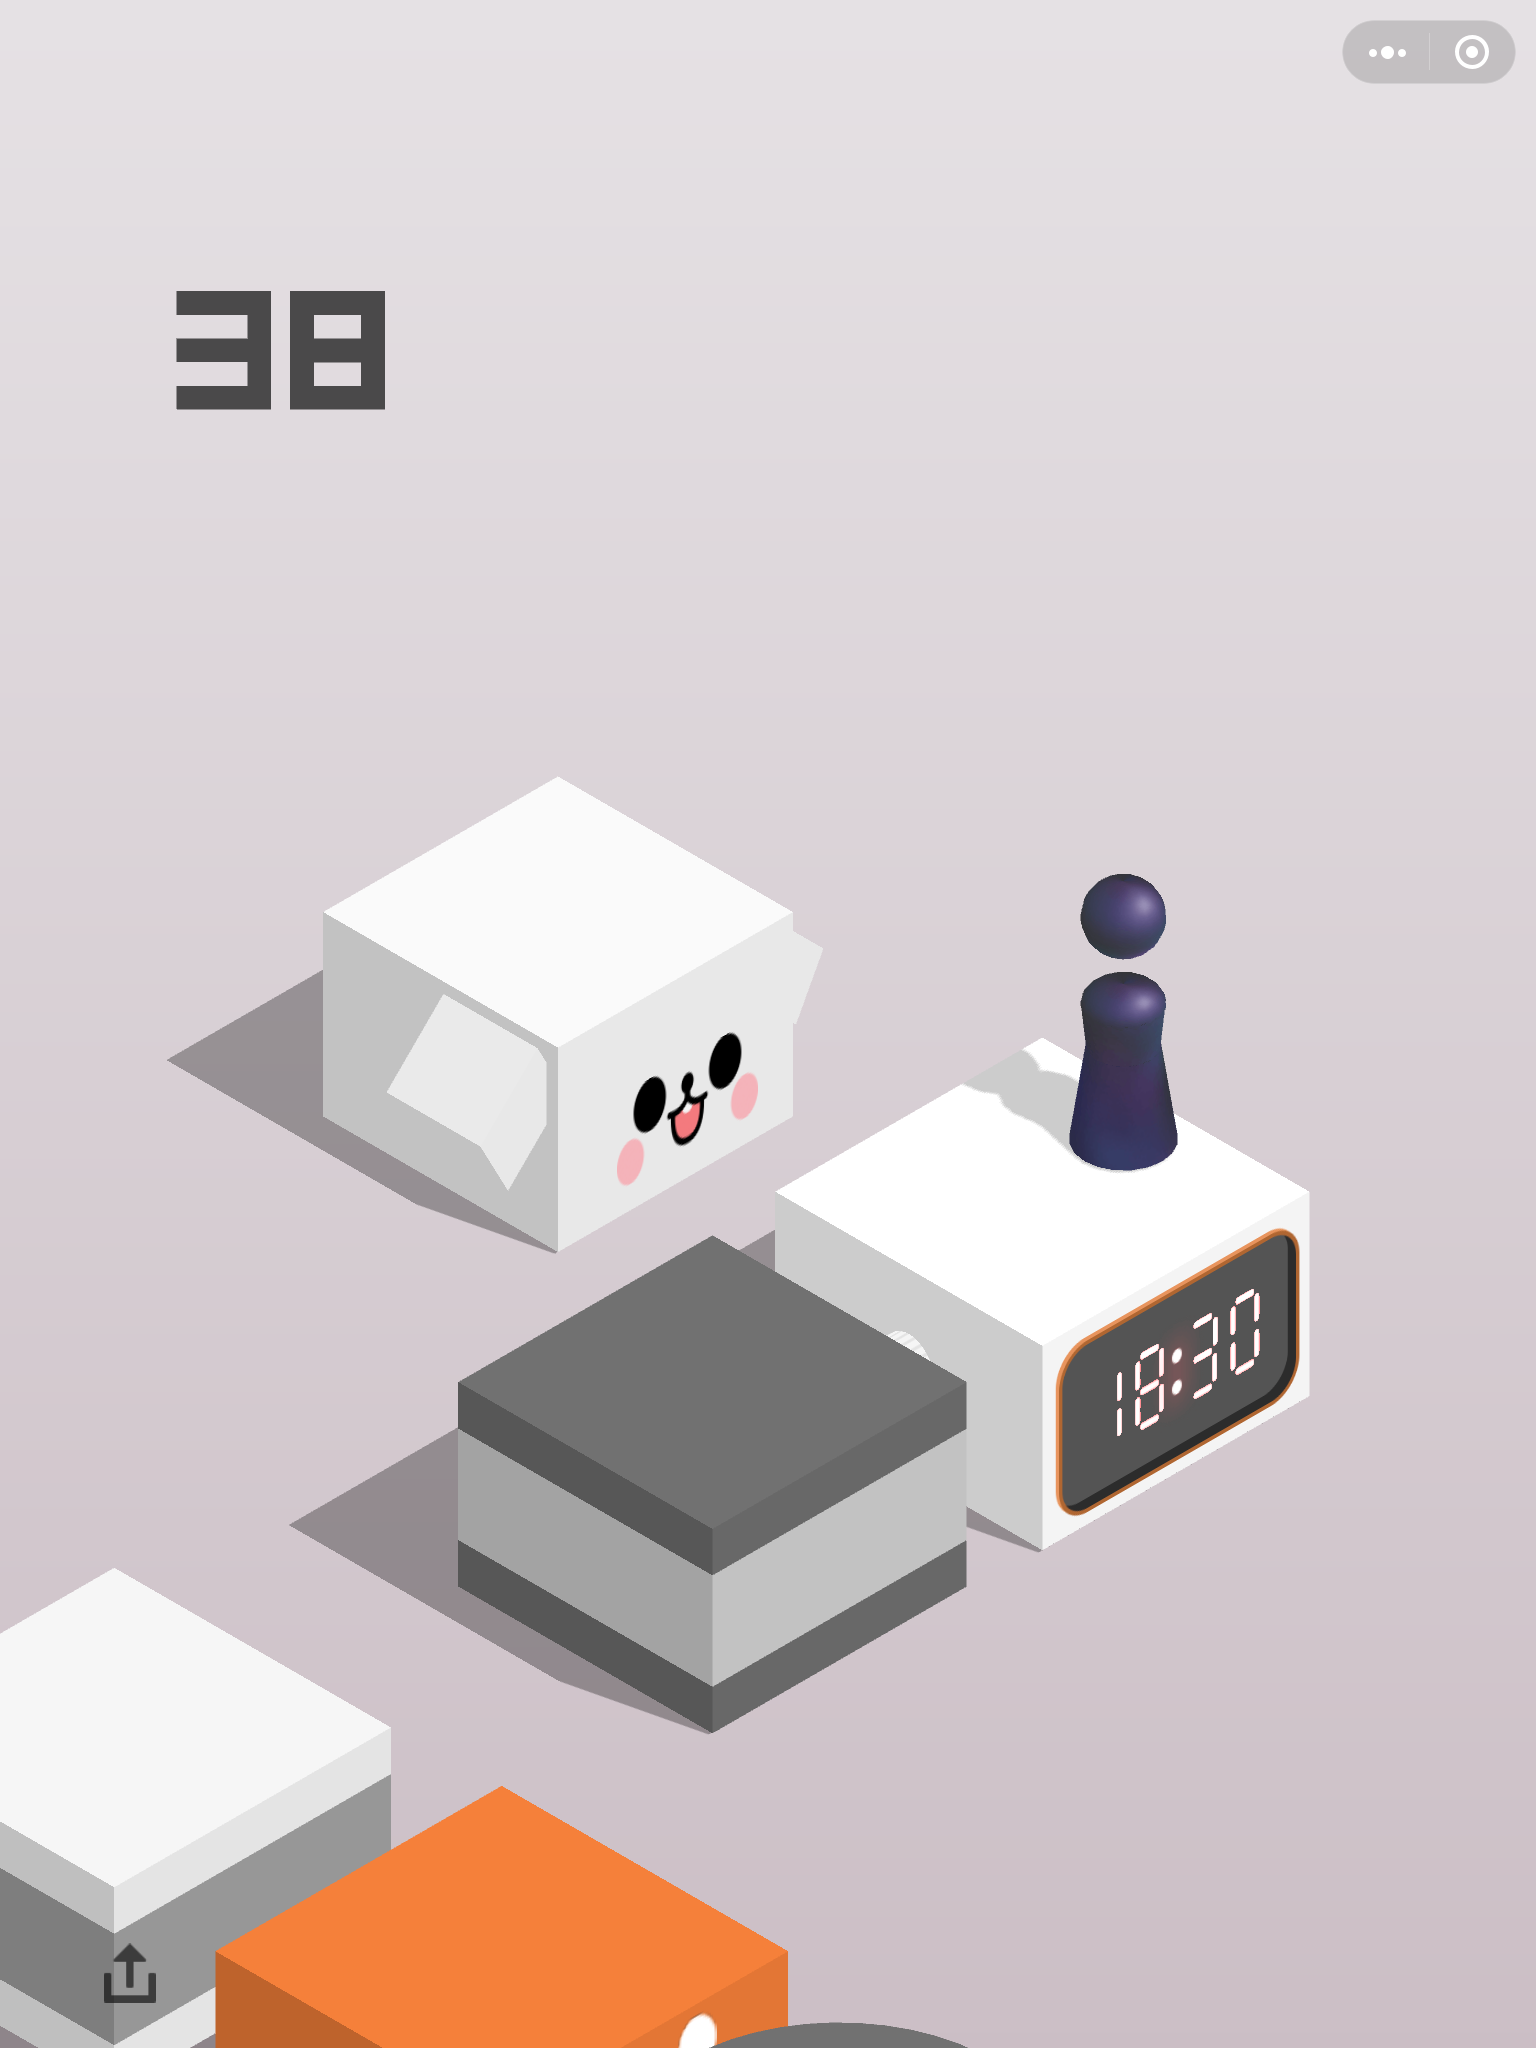f: (765, 1030, 1320, 1556), (452, 1234, 975, 1738), (318, 772, 828, 1263), (2, 1559, 399, 2048), (210, 1780, 795, 2048)
r: (1065, 868, 1183, 1176)
